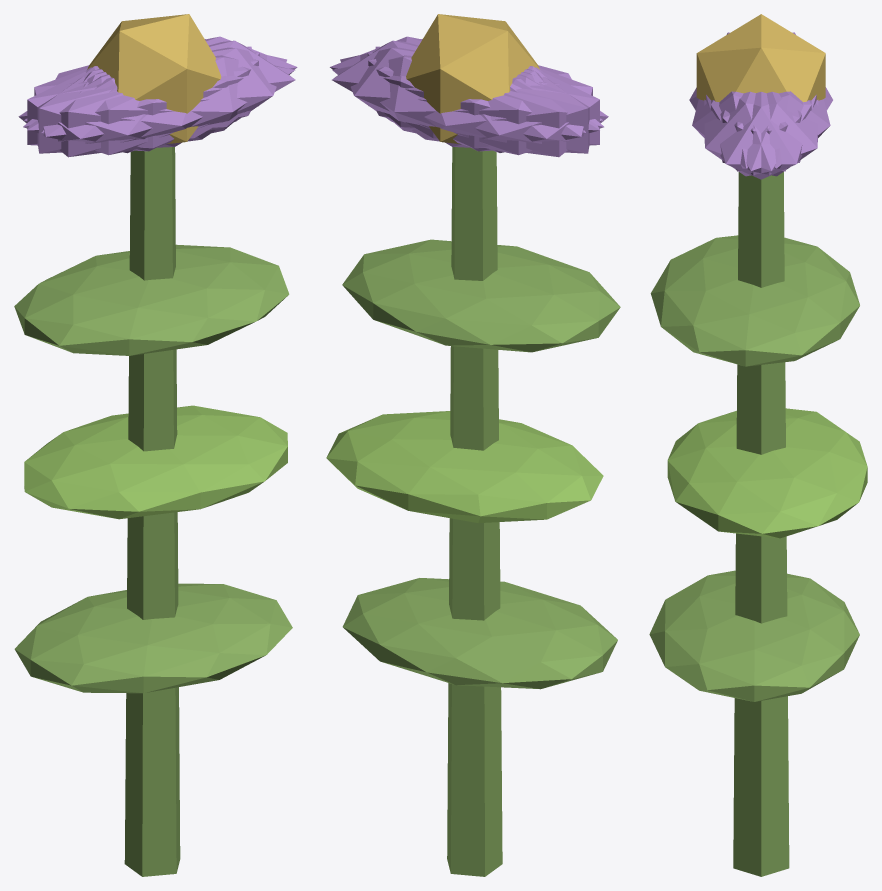
Rendered from allamanda-cathartica.glb.
3 renders of one model, left to right at view 1: azimuth 30°, elevation 25°; view 2: azimuth 150°, elevation 25°; view 3: azimuth 270°, elevation 25°, orthographic.
Parts seen in each view (by area): view 1: stem, leaf2, leaf0, leaf1, center, petal1, petal6, petal2, petal5, petal7, petal0, petal4 (+2 smaller); view 2: stem, leaf2, leaf1, leaf0, center, petal8, petal3, petal7, petal4, petal2, petal0, petal5 (+2 smaller); view 3: stem, leaf2, leaf1, leaf0, center, petal0, petal5, petal4, petal1, petal8.
Part boxes in pixels (x1=…): stem: x1=124, y1=147, x2=180, y2=876; leaf2: x1=14, y1=244, x2=289, y2=355; leaf0: x1=14, y1=583, x2=292, y2=693; leaf1: x1=24, y1=405, x2=287, y2=519; center: x1=87, y1=14, x2=221, y2=144; petal1: x1=23, y1=55, x2=294, y2=155; petal6: x1=18, y1=67, x2=215, y2=157; petal2: x1=37, y1=46, x2=251, y2=153; petal5: x1=41, y1=47, x2=286, y2=148; petal7: x1=27, y1=52, x2=259, y2=151; petal0: x1=87, y1=40, x2=295, y2=138; petal4: x1=24, y1=36, x2=297, y2=130; stem: x1=447, y1=147, x2=502, y2=876; leaf2: x1=342, y1=239, x2=620, y2=352; leaf1: x1=326, y1=411, x2=603, y2=523; leaf0: x1=342, y1=578, x2=617, y2=689; center: x1=406, y1=14, x2=539, y2=143; petal8: x1=332, y1=55, x2=603, y2=155; petal3: x1=412, y1=67, x2=608, y2=157; petal7: x1=375, y1=46, x2=589, y2=153; petal4: x1=340, y1=47, x2=585, y2=148; petal2: x1=367, y1=52, x2=599, y2=151; petal0: x1=332, y1=40, x2=540, y2=138; petal5: x1=330, y1=36, x2=603, y2=130; stem: x1=733, y1=172, x2=789, y2=876; leaf2: x1=650, y1=235, x2=859, y2=366; leaf1: x1=667, y1=408, x2=867, y2=538; leaf0: x1=649, y1=570, x2=859, y2=701; center: x1=696, y1=14, x2=825, y2=102; petal0: x1=706, y1=91, x2=816, y2=179; petal5: x1=704, y1=91, x2=811, y2=176; petal4: x1=711, y1=91, x2=818, y2=176; petal1: x1=692, y1=91, x2=801, y2=168; petal8: x1=720, y1=91, x2=830, y2=168.
Size of the model in its own units: 0.1452 by 0.4368 by 0.1036.
